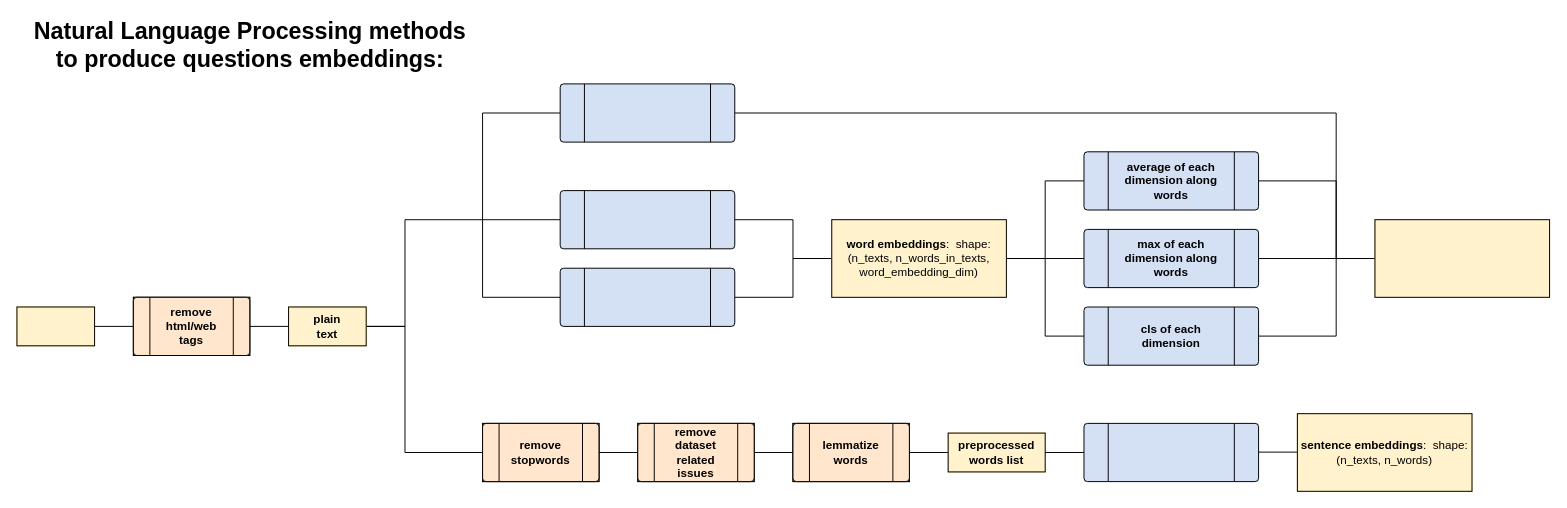
The diagram is 1567 pixels wide and 508 high, and some of its shapes have lost their labels. Here are the shapes that lost their labels. From the top down, the centre of each, then its label:
At [647,112]: "Pretrained Sentence Encoder".
At [647,219]: "BERT trained on our texts dataset".
At [1462,258]: "sentence embeddings : shape: (n_texts, word_embedding_dim)".
At [647,296]: "BERT pretrained on another dataset/task".
At [55,326]: "questions text".
At [1171,452]: "Count Vectorizer".
